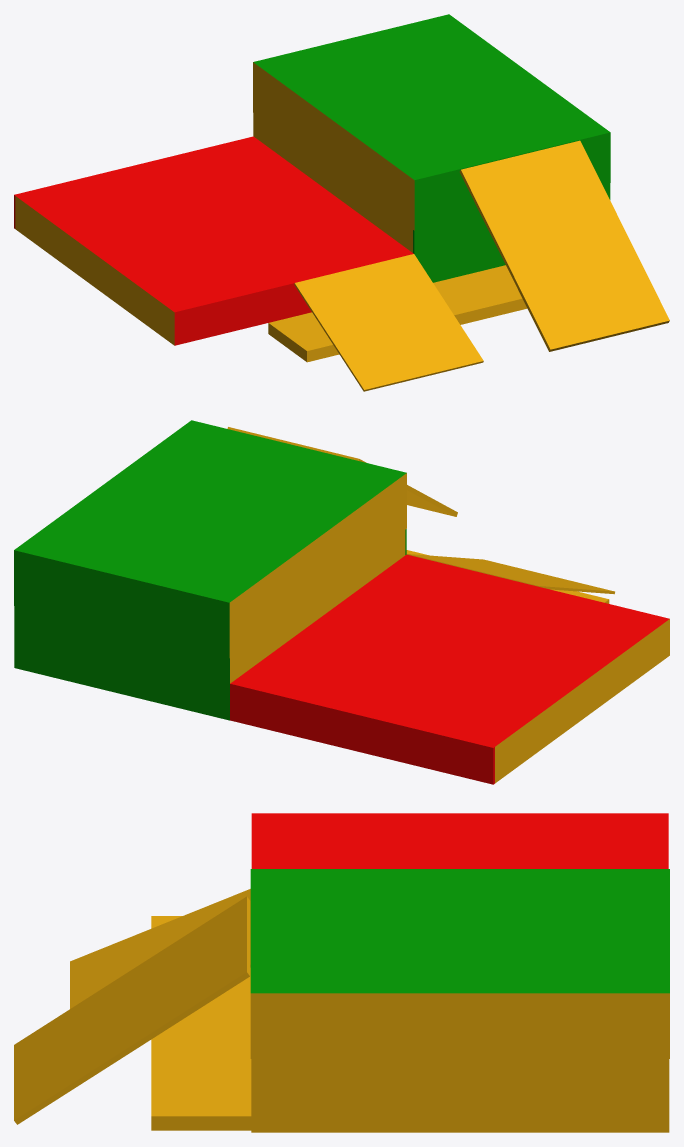
Rendered from Tabua.fbx.
The picture shows the model from 3 angles, top to bottom: view 1: azimuth 30°, elevation 25°; view 2: azimuth 150°, elevation 25°; view 3: azimuth 270°, elevation 25°; orthographic projection. The views are drawn at different scales.
Parts seen in each view (by area): view 1: Cube.001; view 2: Cube.001; view 3: Cube.001.
Part boxes in pixels (x1=…): Cube.001: x1=14, y1=14, x2=669, y2=391; Cube.001: x1=14, y1=420, x2=669, y2=784; Cube.001: x1=14, y1=813, x2=669, y2=1132.
Size of the model in its own units: 3184 by 925 by 3197.
